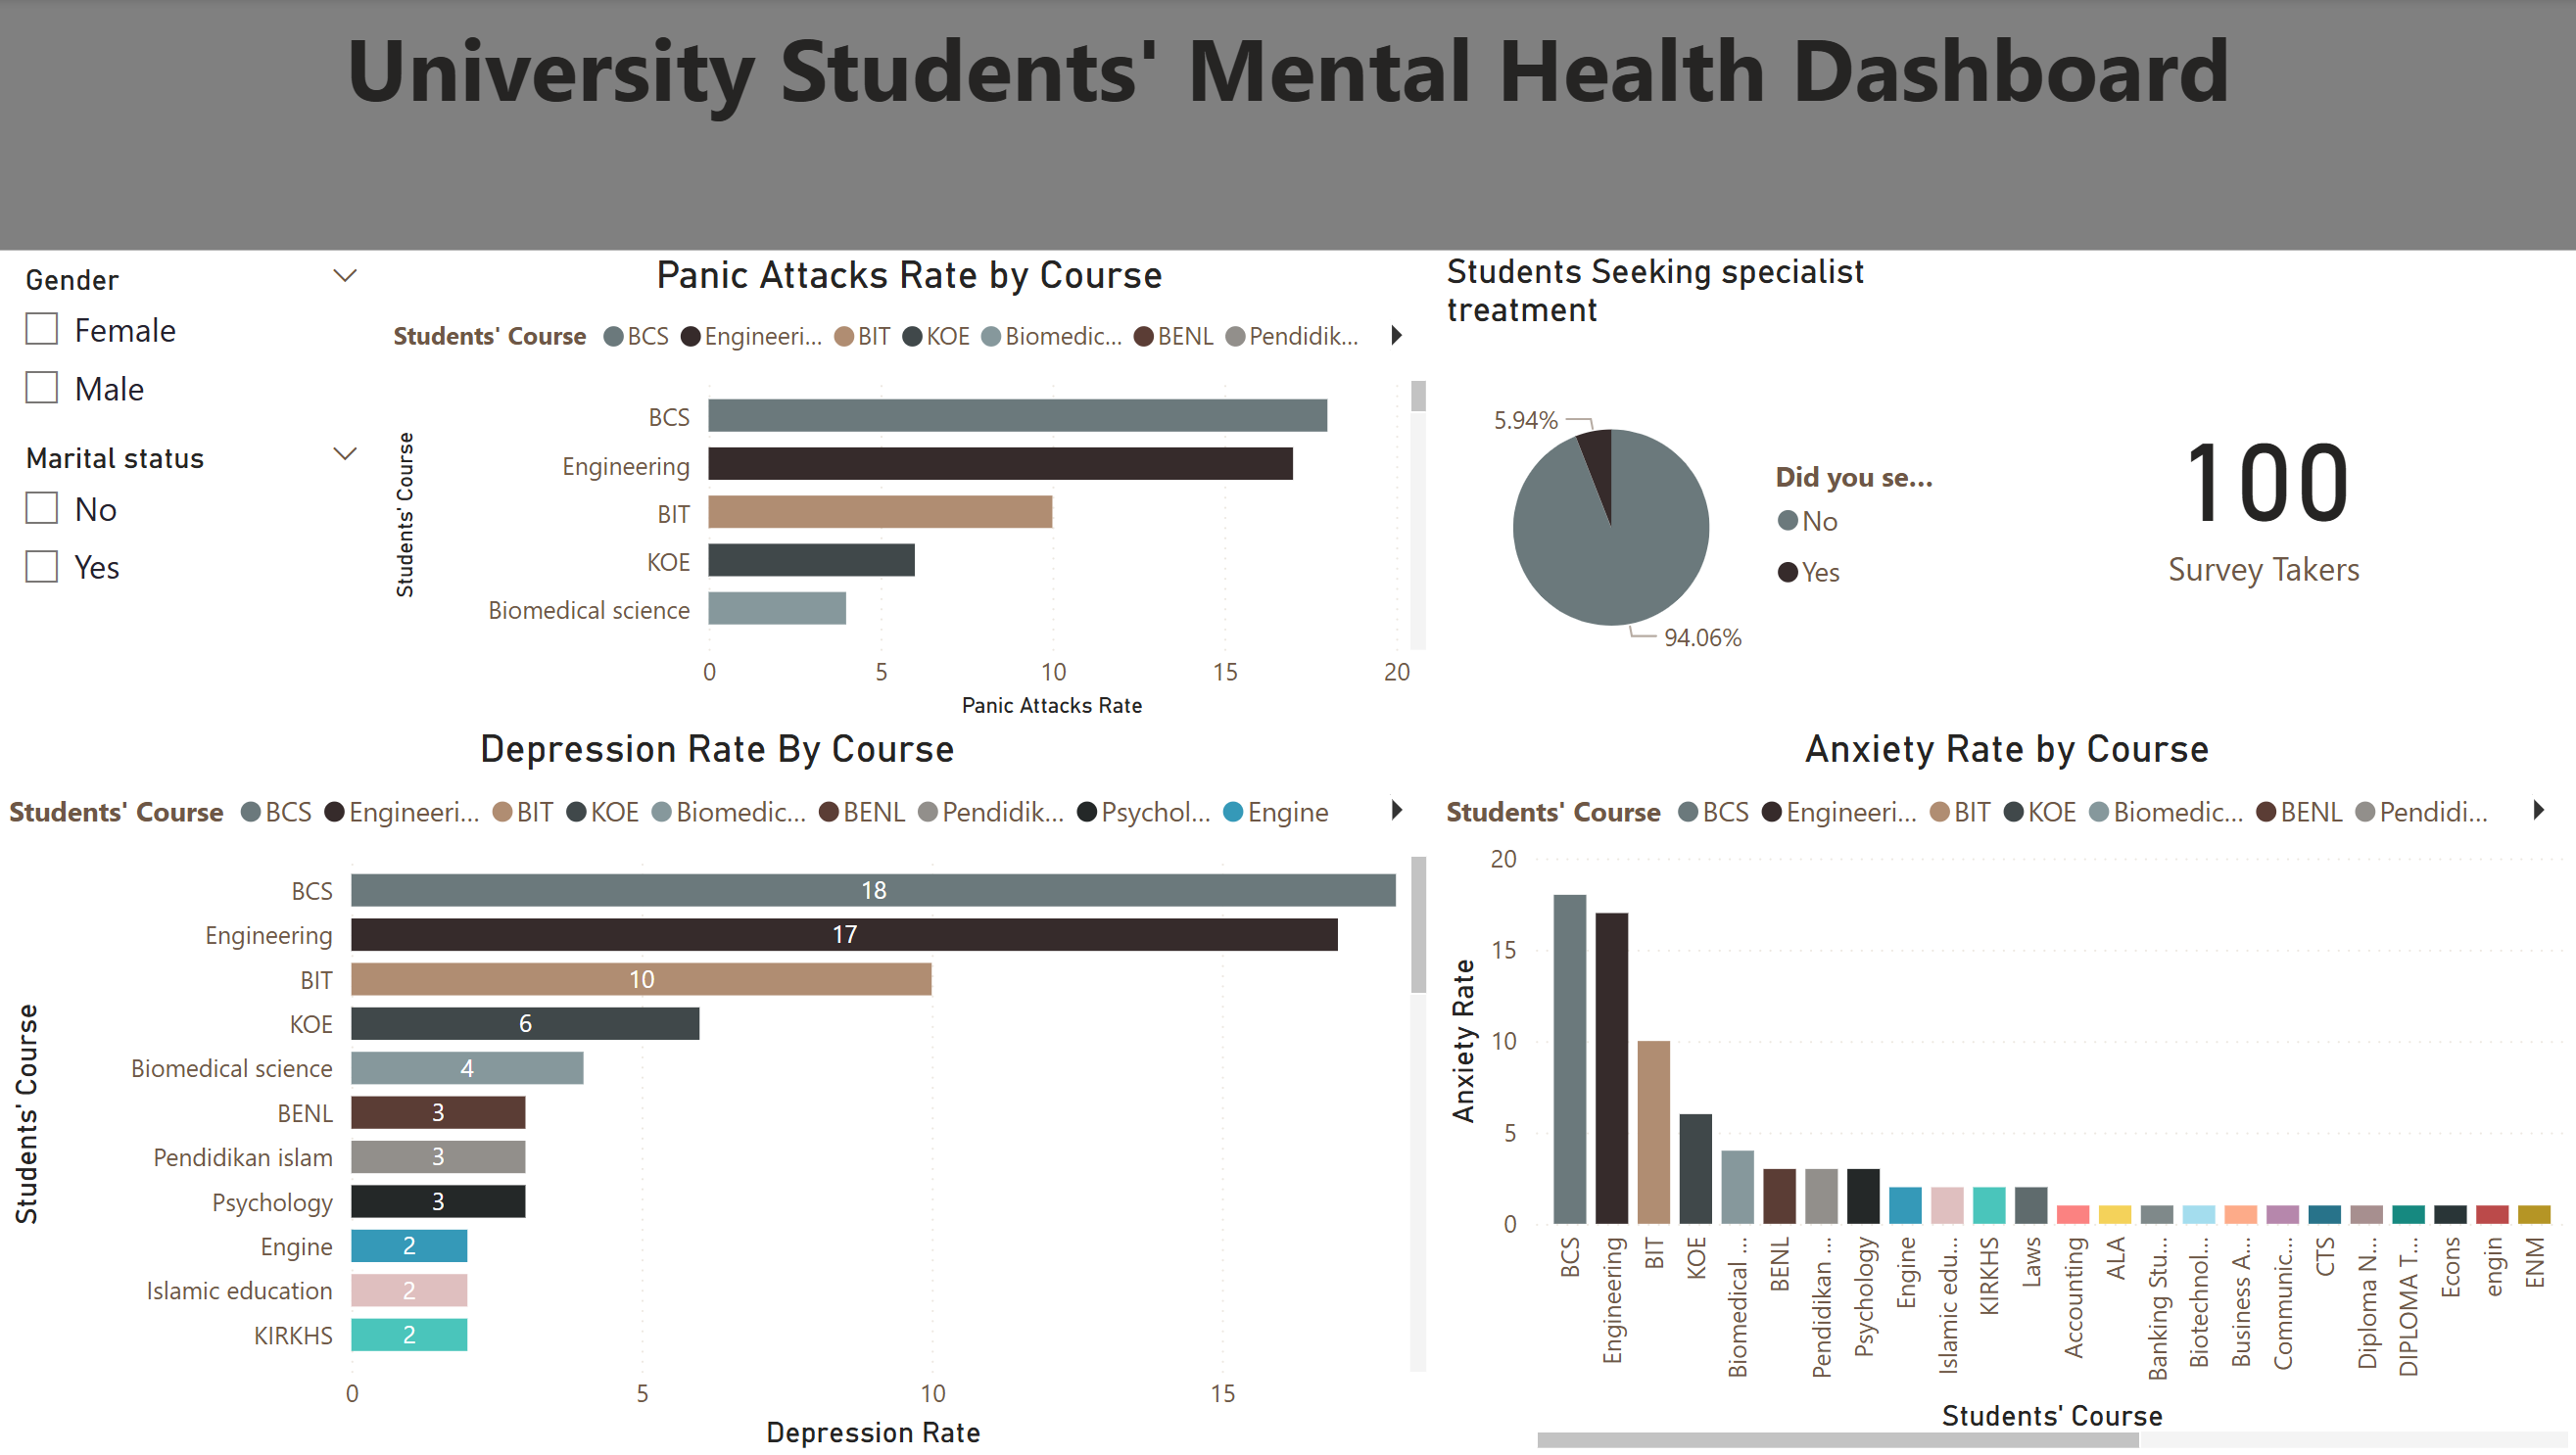

The dashboard page shown, as its layout file describes it:
{"tool":"powerbi","page":{"name":"Page 1","canvas":[1280,720],"ordinal":0},"visuals":[{"type":"textbox","box":[9.6,0,1270.7,124.9],"z":0},{"type":"slicer","fields":{"Values":["Student Mental health.Choose your gender"]},"box":[9.7,125.5,189.4,88.1],"z":1000},{"type":"slicer","fields":{"Values":["Student Mental health.Marital status"]},"box":[9.7,213.5,189.4,88.1],"z":2000},{"type":"barChart","title":"Depression Rate By Course","fields":{"Category":["Student Mental health.What is your course?"],"Y":["CountNonNull(Student Mental health.Do you have Depression?)"],"Series":["Student Mental health.What is your course?"]},"box":[9.6,359.5,708.1,360.9],"z":3000},{"type":"columnChart","title":"Anxiety Rate by Course","fields":{"Category":["Student Mental health.What is your course?"],"Y":["CountNonNull(Student Mental health.Do you have Anxiety?)"],"Series":["Student Mental health.What is your course?"]},"box":[717.7,359.5,562.6,360.9],"z":4000},{"type":"barChart","title":"Panic Attacks Rate by Course","fields":{"Category":["Student Mental health.What is your course?"],"Y":["CountNonNull(Student Mental health.Do you have Panic attack?)"],"Series":["Student Mental health.What is your course?"]},"box":[199.1,125.5,518.8,234],"z":5000},{"type":"card","fields":{"Values":["CountNonNull(Student Mental health.Age)"]},"box":[971.5,124.9,308.7,234.6],"z":6000},{"type":"pieChart","title":"Students Seeking specialist treatment","fields":{"Category":["Student Mental health.Did you seek any specialist for a treatment?"],"Y":["CountNonNull(Student Mental health.Did you seek any specialist for a treatment?)"]},"box":[718,125,254,234],"z":7000}]}

Visuals, with their boxes in screenshot pixels (x1, y1, x2, y2), scaled from the page's 1280x720 canvas onto the 2576x1455 screenshot:
textbox: box=[20, 0, 2575, 253]
slicer - Student Mental health.Choose your gender: box=[20, 254, 401, 432]
slicer - Student Mental health.Marital status: box=[20, 432, 401, 609]
"Depression Rate By Course" barChart: box=[20, 727, 1445, 1454]
"Anxiety Rate by Course" columnChart: box=[1445, 727, 2575, 1454]
"Panic Attacks Rate by Course" barChart: box=[401, 254, 1445, 727]
card - CountNonNull(Student Mental health.Age): box=[1955, 253, 2575, 727]
"Students Seeking specialist treatment" pieChart: box=[1445, 253, 1956, 726]
